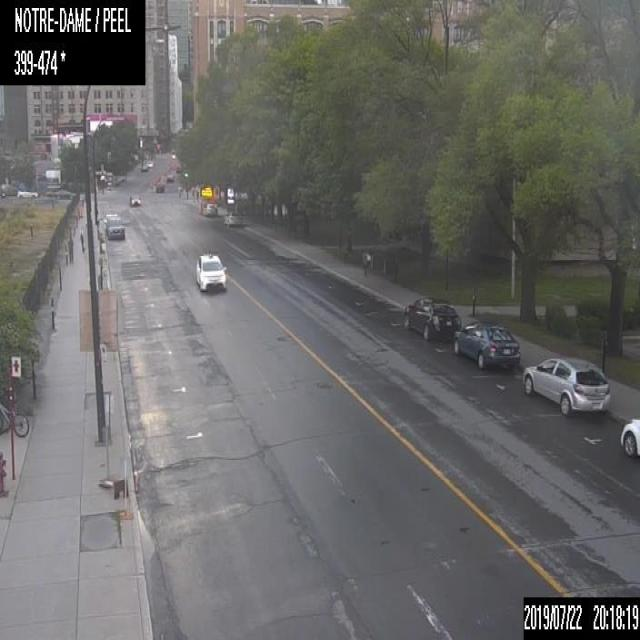vehicle: (521, 355, 611, 413), (452, 320, 518, 372), (399, 296, 462, 342), (195, 251, 227, 292), (618, 416, 639, 457), (104, 212, 124, 239), (223, 210, 242, 226), (199, 200, 217, 215), (16, 187, 38, 197), (127, 190, 140, 206), (152, 178, 164, 190), (167, 168, 176, 181)
